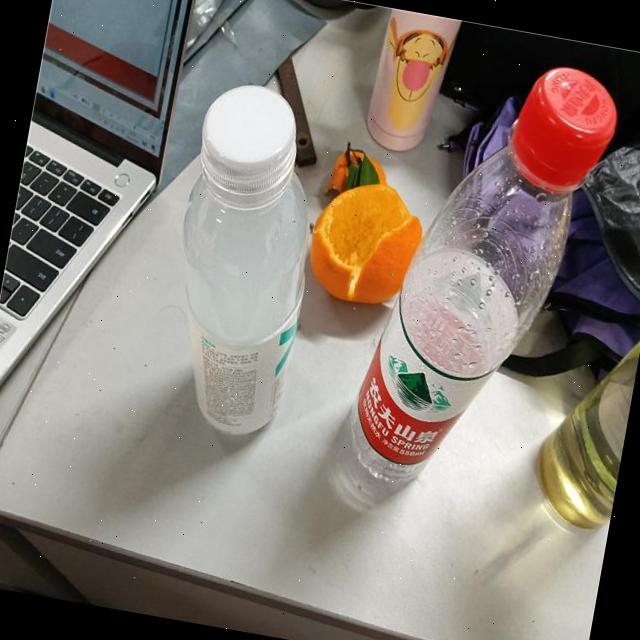orange-peel: (298, 168, 431, 312)
